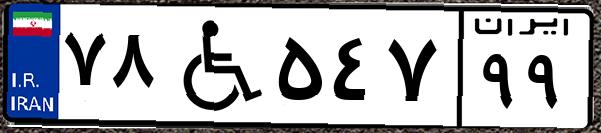4: (330, 28, 385, 110)
5: (270, 28, 330, 110)
7: (385, 28, 445, 110), (57, 26, 110, 100)
8: (110, 28, 158, 98)
9: (475, 38, 525, 113), (525, 38, 570, 115)
ژ (معلولین و جانبازان): (158, 12, 270, 120)
